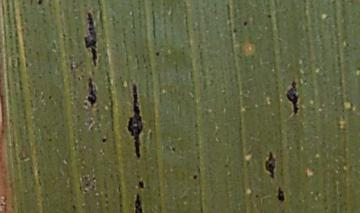tarspot: (124, 81, 146, 160), (80, 7, 100, 70), (283, 77, 301, 116), (80, 74, 99, 108), (263, 148, 277, 182), (133, 191, 145, 213), (275, 184, 287, 204), (98, 135, 109, 147), (136, 178, 146, 190), (190, 172, 199, 183), (169, 143, 178, 154), (153, 48, 161, 58), (231, 27, 240, 35), (266, 12, 274, 20), (34, 1, 45, 6), (242, 19, 249, 26)
